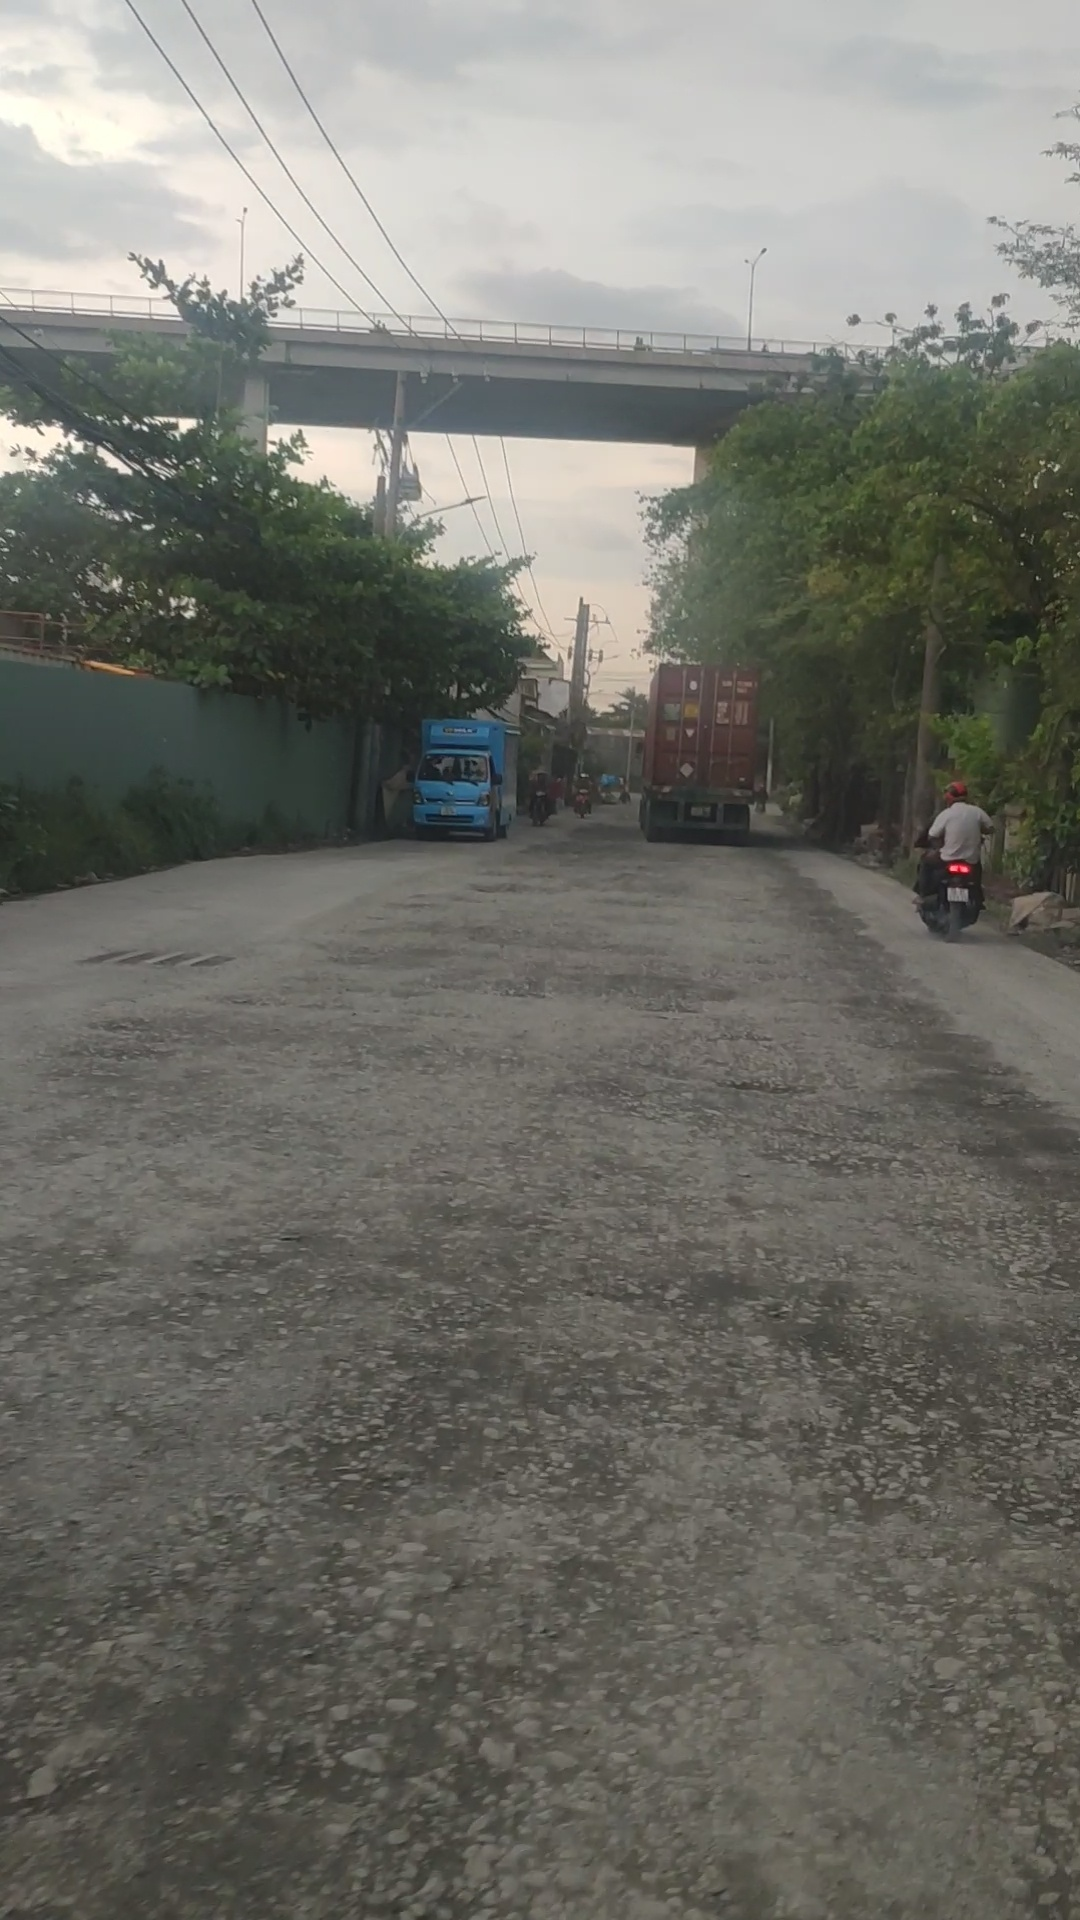hole: (897, 1178, 1080, 1284), (790, 1292, 877, 1382), (655, 1269, 781, 1328), (592, 969, 742, 1017), (851, 1027, 998, 1065), (425, 964, 568, 1000), (460, 918, 613, 951), (705, 1068, 836, 1097), (36, 1040, 189, 1064), (837, 993, 952, 1023), (960, 1079, 1046, 1118), (190, 989, 285, 1010), (83, 1011, 165, 1035), (460, 881, 559, 895), (705, 1029, 782, 1044)
